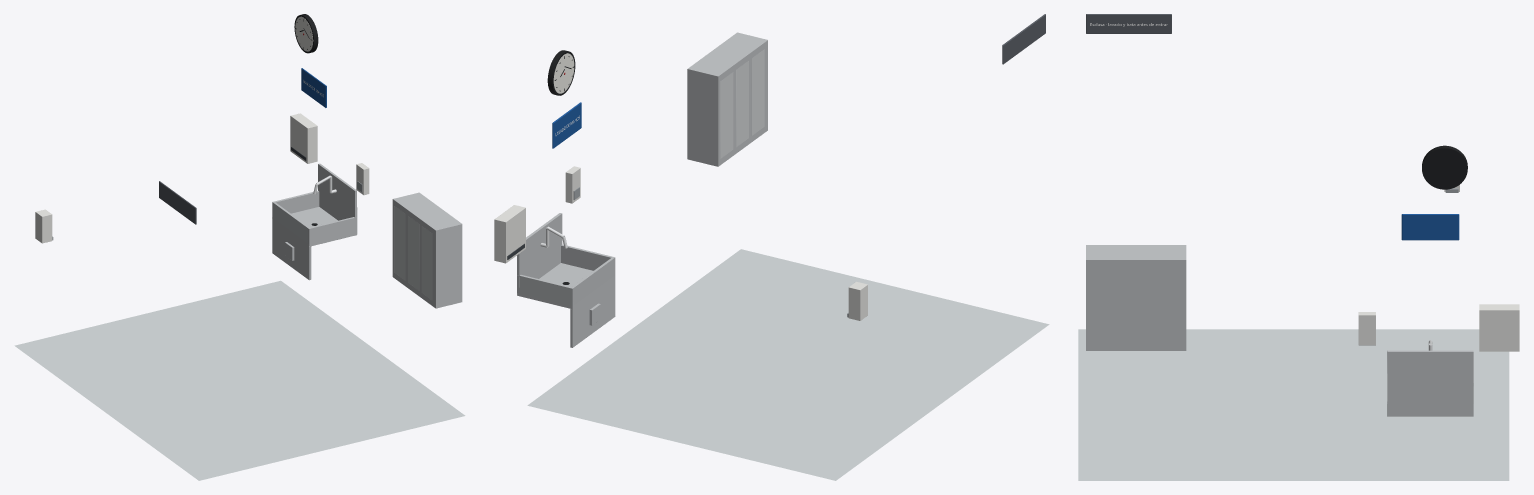
File: 32_n2_area_gris_y_transferencia.glb
The picture shows the model from 3 angles, left to right: view 1: azimuth 30°, elevation 25°; view 2: azimuth 150°, elevation 25°; view 3: azimuth 270°, elevation 25°; orthographic projection. The views are drawn at different scales.
Visible parts, largest first — view 1: piso · Esclusa de acceso a UCI, lavabo_acero, dispensador_batas, reloj, placa · Esclusa · lavado y bata antes de entrar, placa · LAVADO DE MANOS.013, gel; view 2: piso · Esclusa de acceso a UCI, lavabo_acero, dispensador_batas, reloj, placa · Esclusa · lavado y bata antes de entrar, placa · LAVADO DE MANOS.013, gel; view 3: piso · Esclusa de acceso a UCI, dispensador_batas, lavabo_acero, placa · Esclusa · lavado y bata antes de entrar, reloj, placa · LAVADO DE MANOS.013.
Part boxes in pixels (x1,y1,x2,y2): piso · Esclusa de acceso a UCI: (14, 280, 465, 480); lavabo_acero: (272, 113, 369, 280); dispensador_batas: (392, 192, 462, 308); reloj: (294, 14, 318, 53); placa · Esclusa · lavado y bata antes de entrar: (159, 181, 196, 224); placa · LAVADO DE MANOS.013: (301, 68, 326, 107); gel: (35, 209, 53, 243); piso · Esclusa de acceso a UCI: (527, 249, 1049, 480); lavabo_acero: (494, 166, 615, 347); dispensador_batas: (687, 32, 767, 166); reloj: (547, 50, 575, 95); placa · Esclusa · lavado y bata antes de entrar: (1002, 14, 1045, 64); placa · LAVADO DE MANOS.013: (552, 102, 581, 148); gel: (847, 281, 867, 320); piso · Esclusa de acceso a UCI: (1078, 329, 1509, 480); dispensador_batas: (1086, 245, 1186, 350); lavabo_acero: (1358, 304, 1519, 416); placa · Esclusa · lavado y bata antes de entrar: (1086, 14, 1171, 33); reloj: (1422, 145, 1467, 189); placa · LAVADO DE MANOS.013: (1401, 214, 1459, 240).
Bounding box in the file's own units: 2.73 × 2.56 × 3.07.
